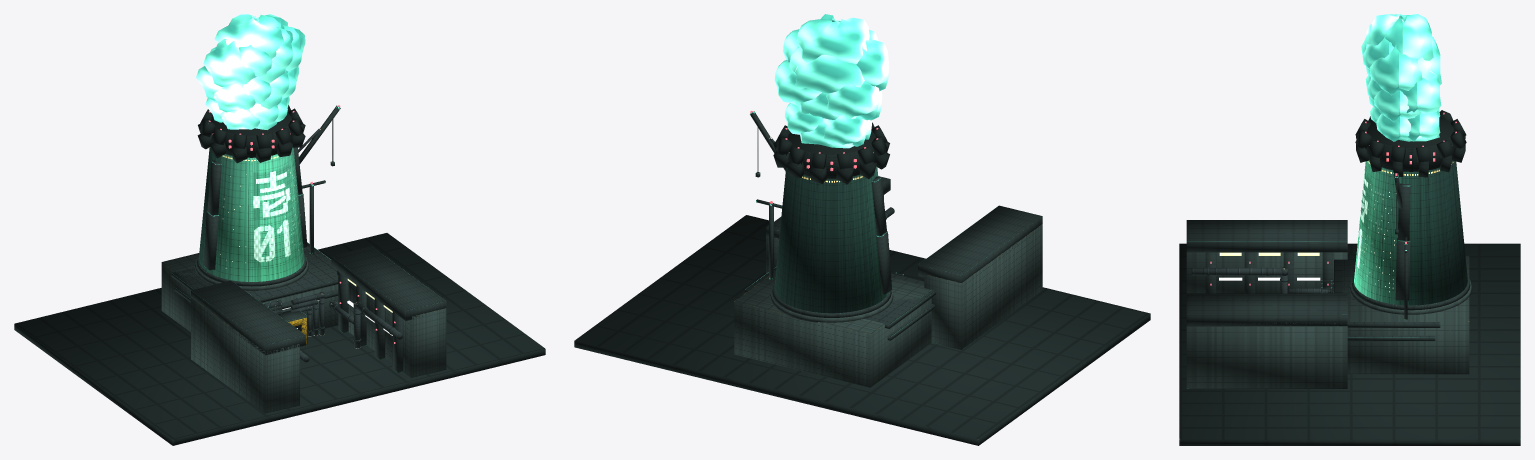
Rendered from night-drive-mako-reactor.glb.
3 views of the same model, side by side, from view 1: azimuth 30°, elevation 25°; view 2: azimuth 150°, elevation 25°; view 3: azimuth 270°, elevation 25° (orthographic). The views are drawn at different scales.
Parts seen in each view (by area): view 1: night-drive-mako-reactor; view 2: night-drive-mako-reactor; view 3: night-drive-mako-reactor.
Part boxes in pixels (x1,y1,x2,y2): night-drive-mako-reactor: (14,14,545,445); night-drive-mako-reactor: (574,14,1150,445); night-drive-mako-reactor: (1179,14,1520,445).
Bounding box in the file's own units: 190 × 151 × 140.
1 material, 1 textured.
